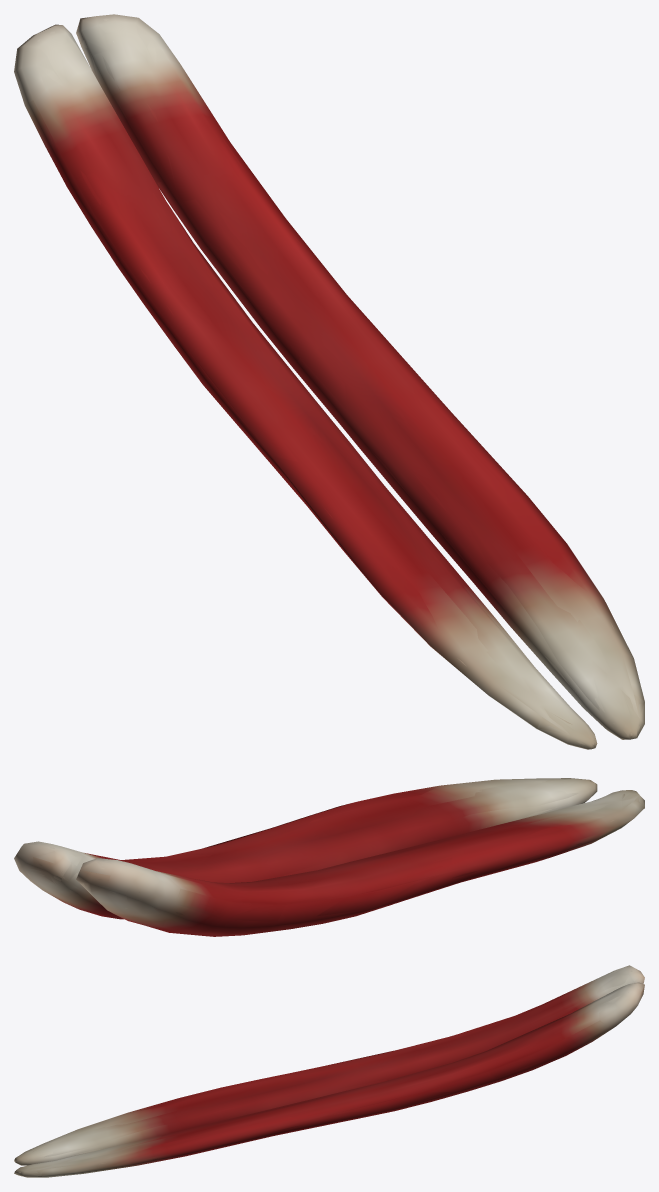
File: Digastricus.fbx
3 views of the same model, one above another, from view 1: azimuth 30°, elevation 25°; view 2: azimuth 150°, elevation 25°; view 3: azimuth 270°, elevation 25° (orthographic). The views are drawn at different scales.
Parts seen in each view (by area): view 1: Digastricus low, Digastricus, Digastricus high; view 2: Digastricus, Digastricus low, Digastricus high; view 3: Digastricus, Digastricus low, Digastricus high.
Part boxes in pixels (x1=…): Digastricus low: x1=15, y1=14, x2=644, y2=747; Digastricus: x1=14, y1=14, x2=644, y2=749; Digastricus high: x1=37, y1=18, x2=639, y2=746; Digastricus: x1=14, y1=778, x2=644, y2=936; Digastricus low: x1=15, y1=778, x2=644, y2=935; Digastricus high: x1=18, y1=779, x2=633, y2=933; Digastricus: x1=14, y1=965, x2=644, y2=1177; Digastricus low: x1=18, y1=965, x2=644, y2=1177; Digastricus high: x1=16, y1=967, x2=642, y2=1175.
Size of the model in its own units: 0.808 by 1.36 by 4.03.
Materials: 1 (1 with a texture image).
